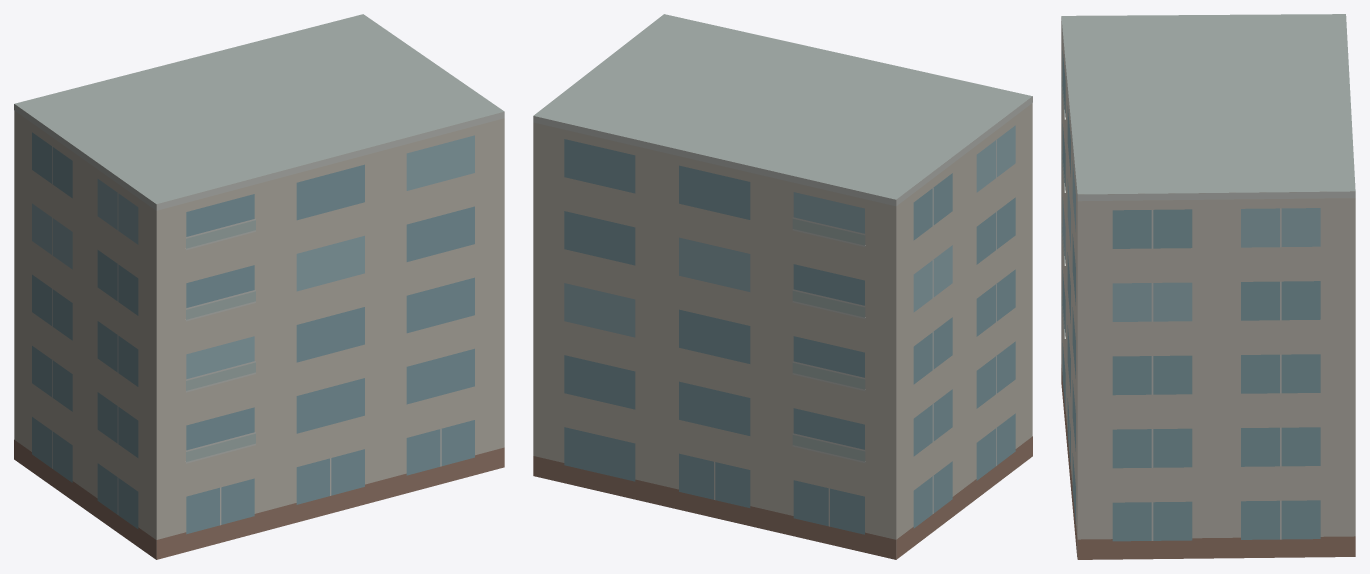
The model's file is survey-upis-32967659.glb.
3 views of the same model, side by side, from view 1: azimuth 30°, elevation 25°; view 2: azimuth 150°, elevation 25°; view 3: azimuth 270°, elevation 25° (orthographic). The views are drawn at different scales.
Visible parts, largest first — view 1: survey-upis-32967659.tmp; view 2: survey-upis-32967659.tmp; view 3: survey-upis-32967659.tmp.
Part boxes in pixels (x1,y1,x2,y2): survey-upis-32967659.tmp: (14, 14, 504, 559); survey-upis-32967659.tmp: (533, 14, 1032, 559); survey-upis-32967659.tmp: (1061, 14, 1355, 559).
Size of the model in its own units: 13.99 by 13.2 by 9.64.
